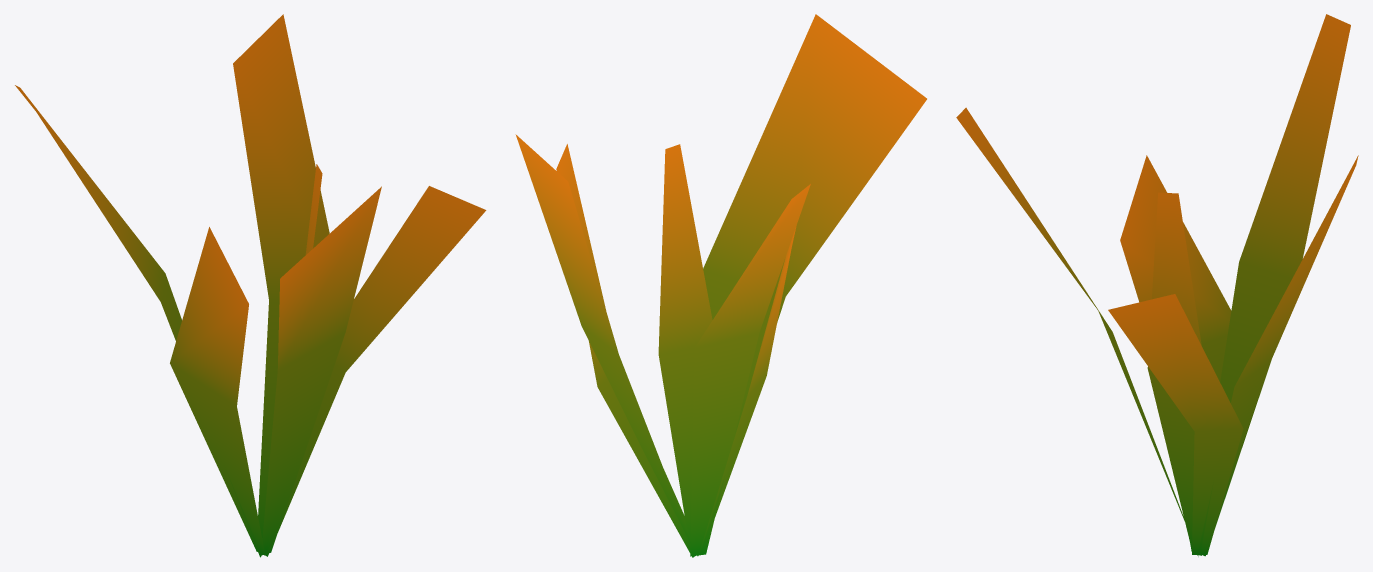
File: Common Eelgrass_LOD3_Var2_sjglk.fbx
3 renders of one model, left to right at view 1: azimuth 30°, elevation 25°; view 2: azimuth 150°, elevation 25°; view 3: azimuth 270°, elevation 25°, orthographic.
Parts seen in each view (by area): view 1: _203a_Var2_LOD3; view 2: _203a_Var2_LOD3; view 3: _203a_Var2_LOD3.
Boxes of the visible parts, <box> form: _203a_Var2_LOD3: <box>15,14,486,557</box>; _203a_Var2_LOD3: <box>515,14,926,557</box>; _203a_Var2_LOD3: <box>956,14,1358,556</box>.
Size of the model in its own units: 65.37 by 81.45 by 65.27.
